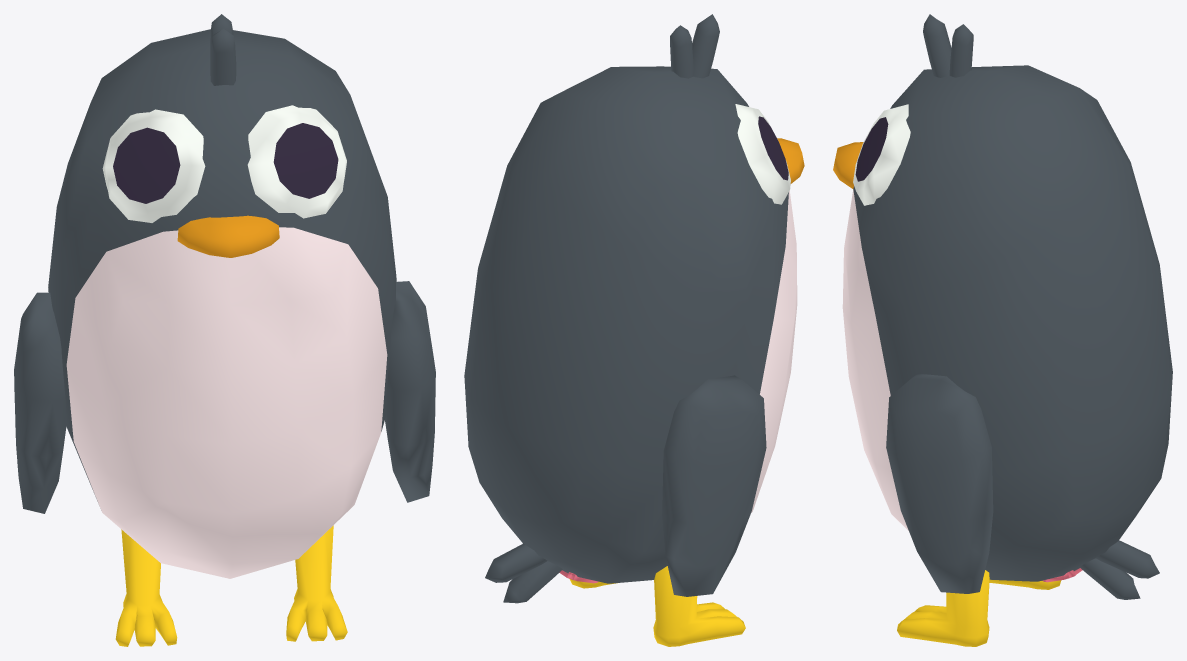
The model's file is penguin.gltf.
3 renders of one model, left to right at view 1: azimuth 30°, elevation 25°; view 2: azimuth 150°, elevation 25°; view 3: azimuth 270°, elevation 25°, orthographic. The views are drawn at different scales.
Parts seen in each view (by area): view 1: huitugou_5168_88; view 2: huitugou_5168_88; view 3: huitugou_5168_88.
Part boxes in pixels (bbox=[...]): huitugou_5168_88: bbox=[14, 14, 435, 646]; huitugou_5168_88: bbox=[464, 14, 804, 646]; huitugou_5168_88: bbox=[833, 14, 1172, 646].
Size of the model in its own units: 0.2679 by 0.4555 by 0.2426.
Materials: 1 (1 with a texture image).
